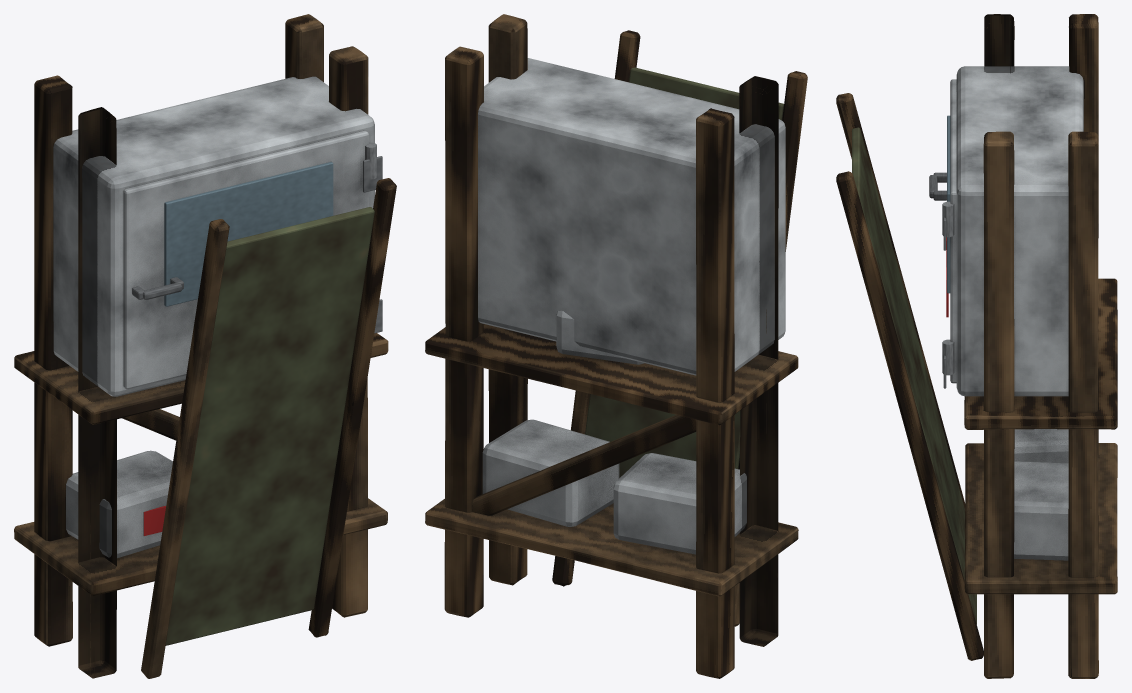
The model's file is poi_medical.glb.
The picture shows the model from 3 angles, left to right: view 1: azimuth 30°, elevation 25°; view 2: azimuth 150°, elevation 25°; view 3: azimuth 270°, elevation 25°; orthographic projection. The views are drawn at different scales.
Visible parts, largest first — view 1: poi_medical; view 2: poi_medical; view 3: poi_medical.
Part boxes in pixels (x1,y1,x2,y2): poi_medical: (14,14,396,678); poi_medical: (425,14,807,678); poi_medical: (836,14,1117,678).
Size of the model in its own units: 0.7825 by 1.42 by 0.6657.
Materials: 6 (6 with a texture image).
